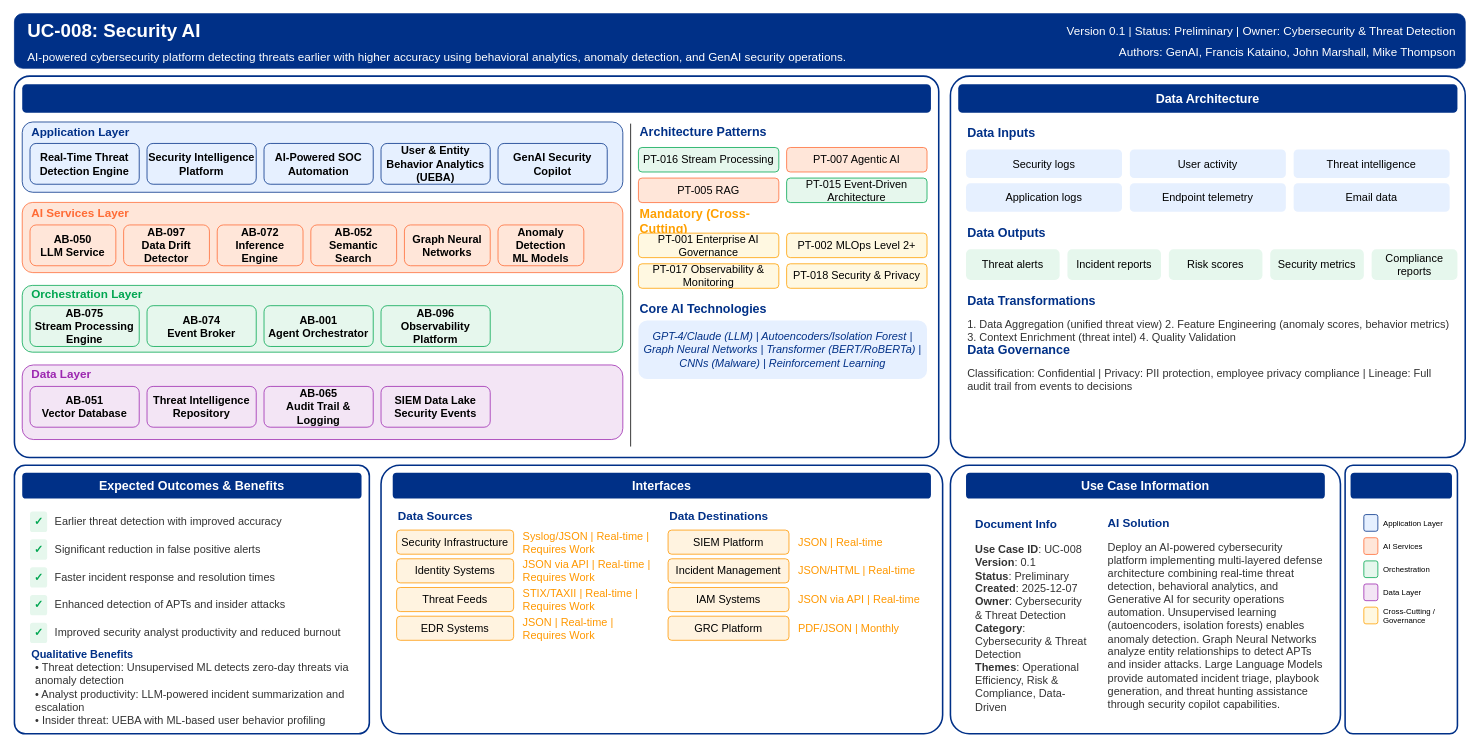
Image size: 1480x748. Some labels were removed from this diagram. The centre of each missing label's shape, as x and y in pixels:
Legend: the point at 1401,485
Solution: the point at 476,98
